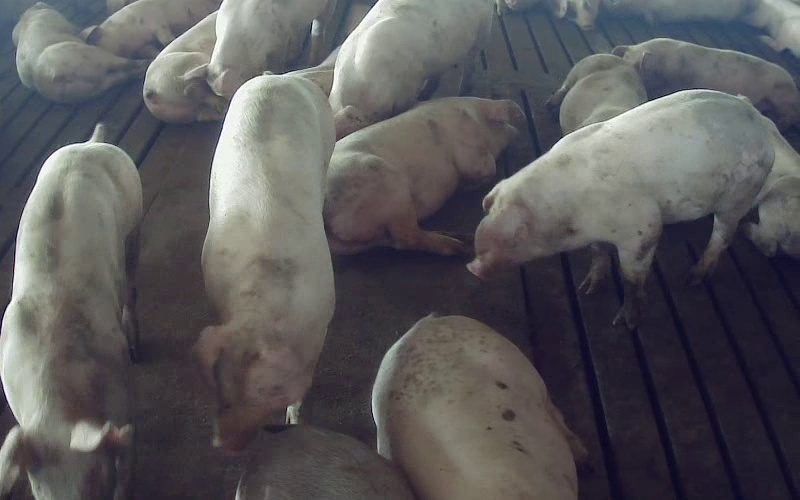pig: (194, 75, 334, 452), (372, 315, 584, 499), (324, 98, 523, 254), (612, 38, 799, 125), (207, 0, 345, 98), (13, 3, 147, 102), (143, 12, 226, 122), (81, 0, 220, 58), (547, 54, 647, 134)
